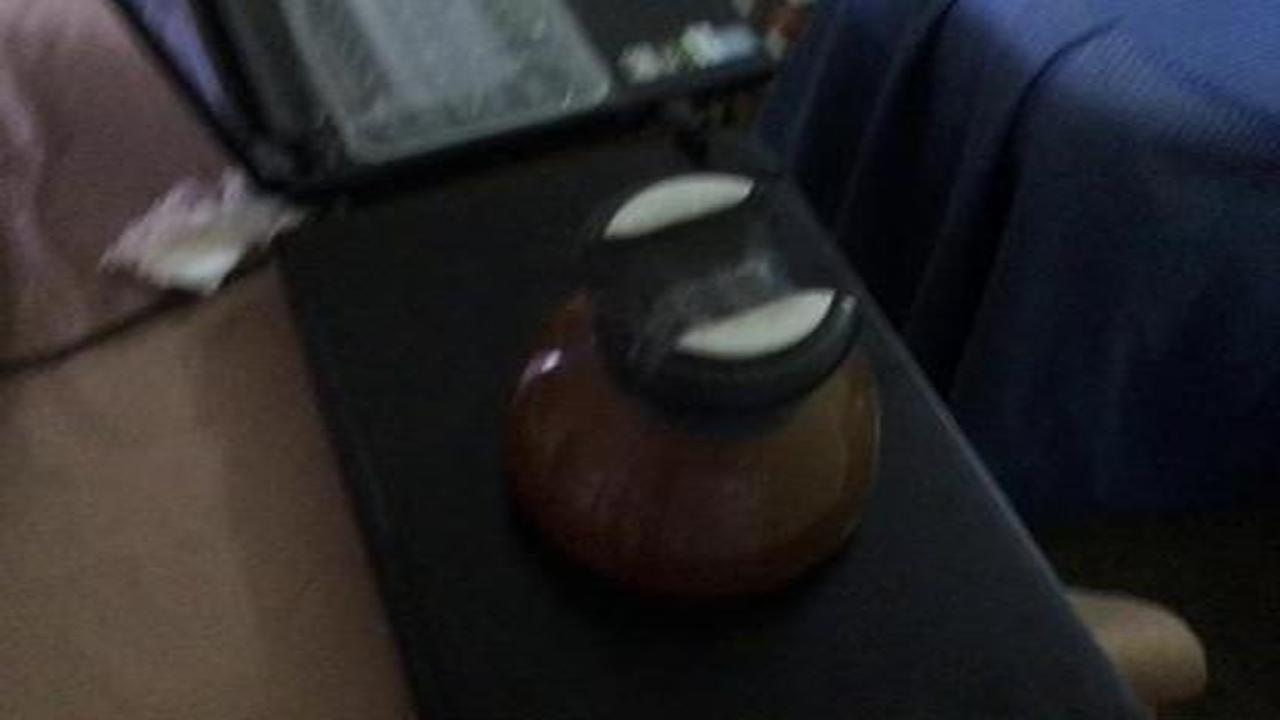insulator_pin: (462, 153, 939, 618)
